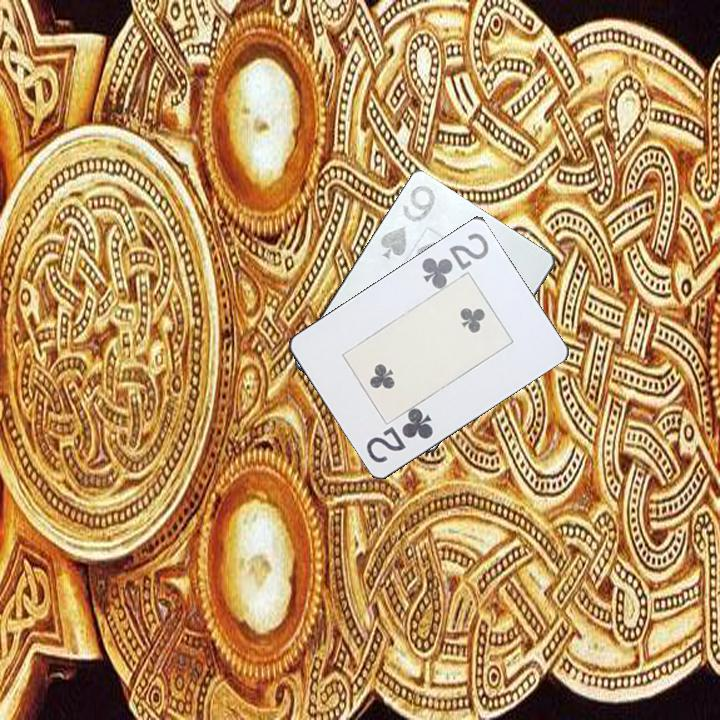2c: (418, 229, 492, 291), (363, 405, 436, 466)
9s: (376, 182, 439, 263)
